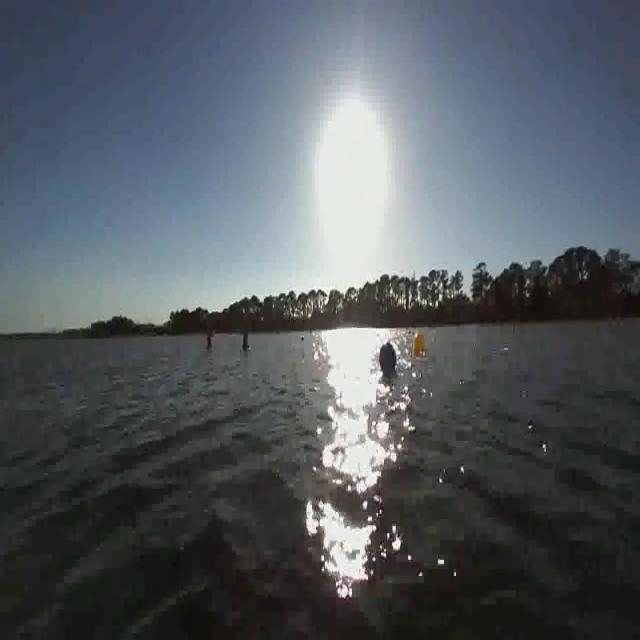blue-buoy: (376, 342, 394, 372)
green-column-buoy: (242, 316, 250, 350)
red-column-buoy: (205, 320, 214, 351)
yellow-buoy: (414, 334, 425, 352)
